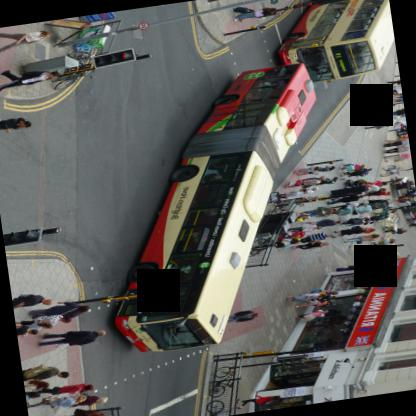backpack: (272, 240, 289, 249)
handbag: (22, 363, 54, 378), (50, 386, 74, 395), (59, 305, 79, 315), (302, 313, 321, 321), (73, 408, 98, 414), (41, 396, 63, 402), (27, 38, 41, 43), (307, 300, 317, 305), (309, 290, 324, 293), (294, 179, 300, 185), (392, 159, 400, 162), (355, 241, 361, 243)
suitcase: (233, 6, 249, 13)
